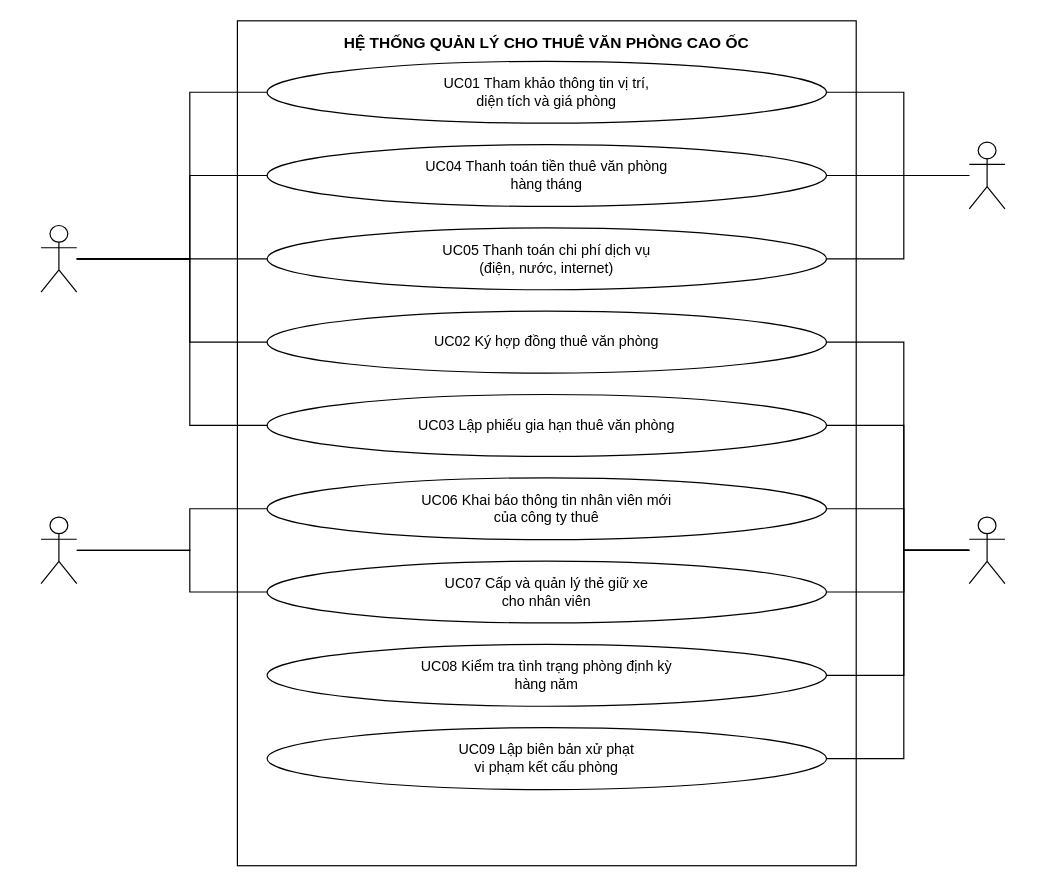
The diagram is 1047 pixels wide and 887 high, and some of its shapes have lost their labels. The centre of each missing label's shape, as x and y in pixels:
Hệ thống tính giá thuê: point 986,175
Khách hàng: point 58,258
Nhân viên công ty thuê: point 58,550
NV Quản lý: point 986,550
